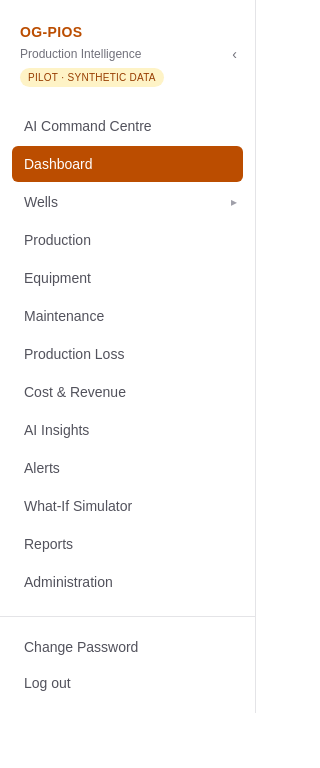
Test case: Sidebar › does not refetch wells on a second expand
Click the button named "Expand wells list" at x=234, y=202, box [225,188,243,216]
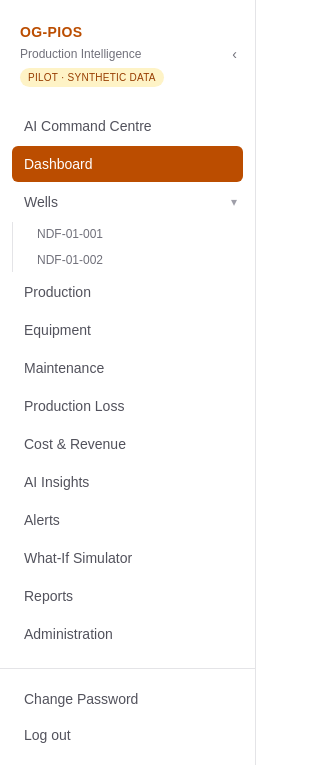
expect the link "NDF-01-001" is shown: met, box [37,227,103,241]
Click the button named "Collapse wells list" at x=234, y=202, box [225,188,243,216]
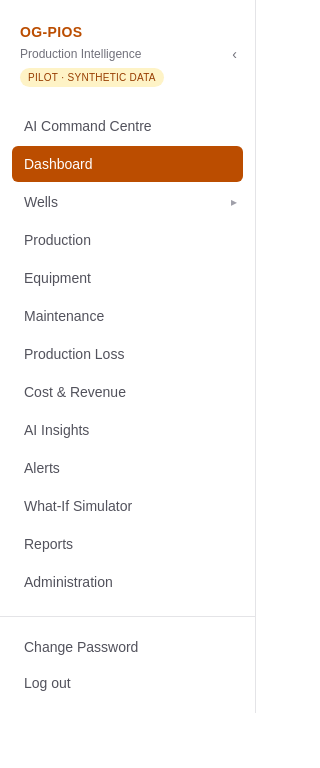
Click the button named "Expand wells list" at x=234, y=202, box [225,188,243,216]
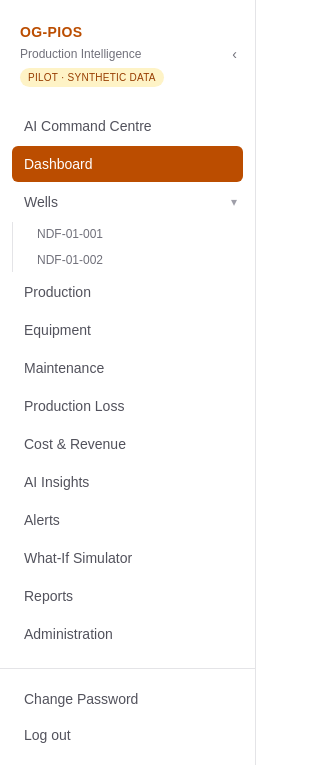
expect the link "NDF-01-001" is shown: met, box [37,227,103,241]
